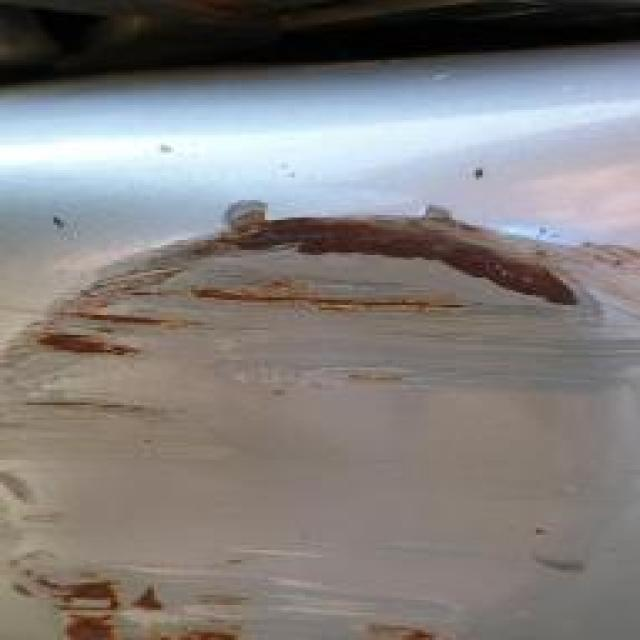Door: (0, 172, 623, 640)
